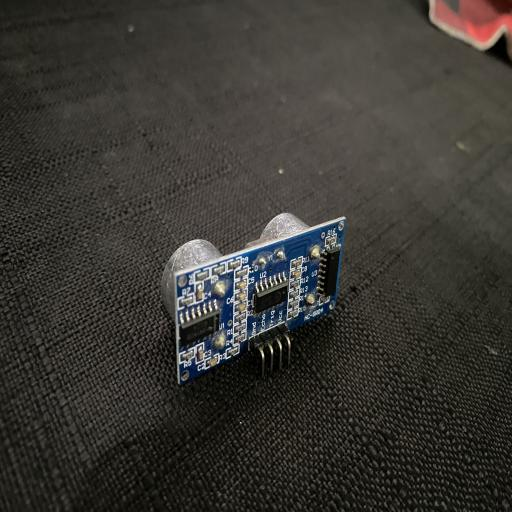Ultrasonic Sensor: (160, 211, 346, 385)
